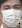with_mask: (1, 2, 22, 28)
